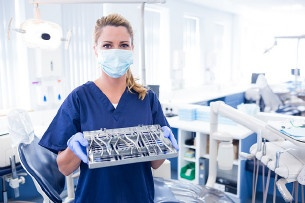Mask: (96, 37, 135, 76)
